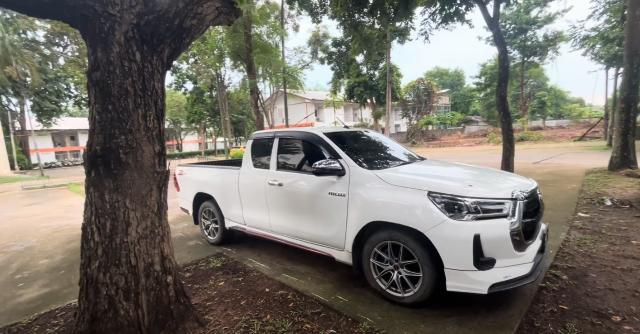pickup-truck: (174, 126, 548, 302)
